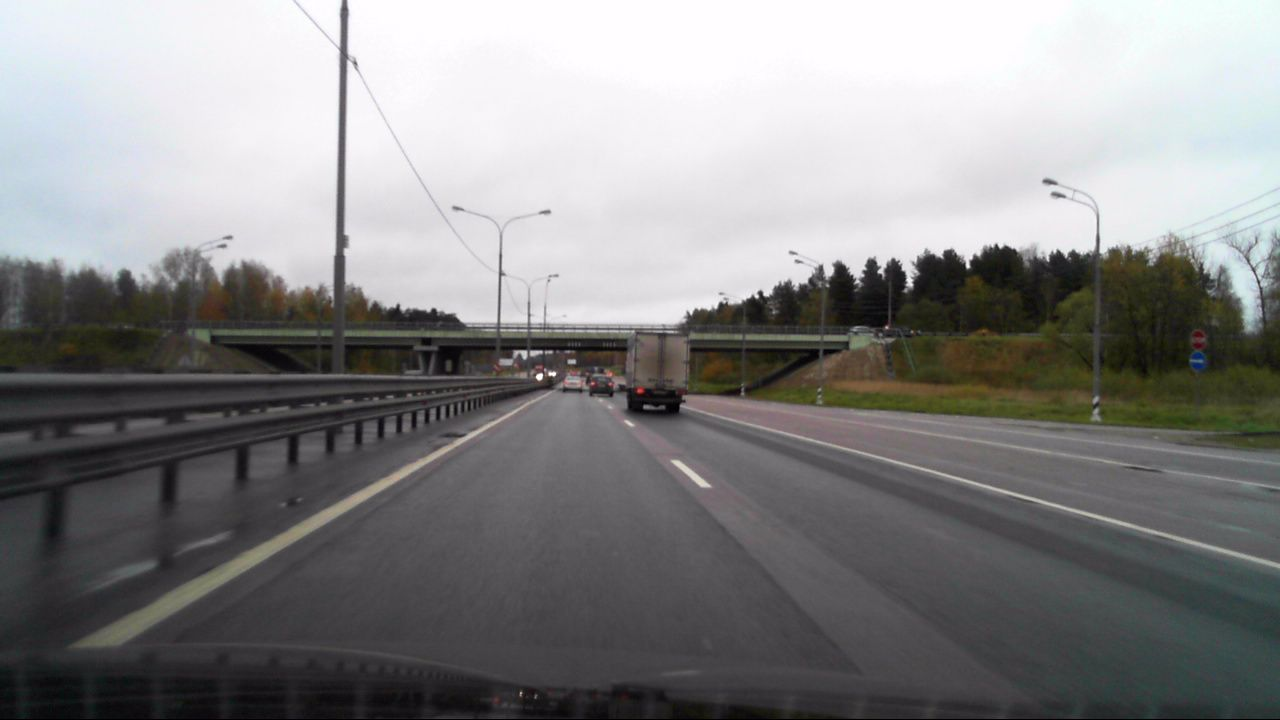Turn Right: (1189, 351, 1207, 370)
